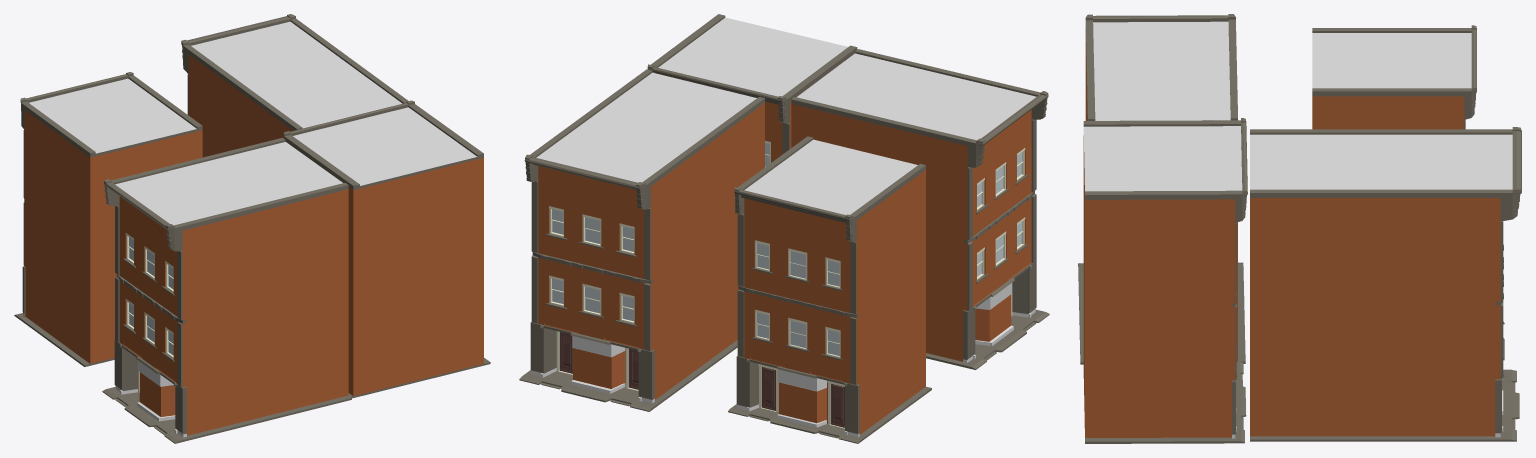
Rendered from Building1.fbx.
3 views of the same model, side by side, from view 1: azimuth 30°, elevation 25°; view 2: azimuth 150°, elevation 25°; view 3: azimuth 270°, elevation 25° (orthographic). The views are drawn at different scales.
Visible parts, largest first — view 1: Cube.002, Cube.003, Cube.068, Cube.069; view 2: Cube.069, Cube.068, Cube.002, Cube.003; view 3: Cube.069, Cube.003, Cube.002, Cube.068.
Part boxes in pixels (bbox=[...]): Cube.002: bbox=[102, 137, 351, 443]; Cube.003: bbox=[284, 100, 490, 398]; Cube.068: bbox=[14, 72, 202, 366]; Cube.069: bbox=[181, 14, 408, 157]; Cube.069: bbox=[519, 69, 764, 411]; Cube.068: bbox=[728, 136, 931, 443]; Cube.002: bbox=[791, 49, 1049, 369]; Cube.003: bbox=[647, 14, 857, 166]; Cube.069: bbox=[1250, 127, 1521, 441]; Cube.003: bbox=[1083, 118, 1247, 443]; Cube.002: bbox=[1078, 14, 1245, 364]; Cube.068: bbox=[1312, 25, 1476, 129].
Bounding box in the file's own units: 1761 × 1122 × 1814.
